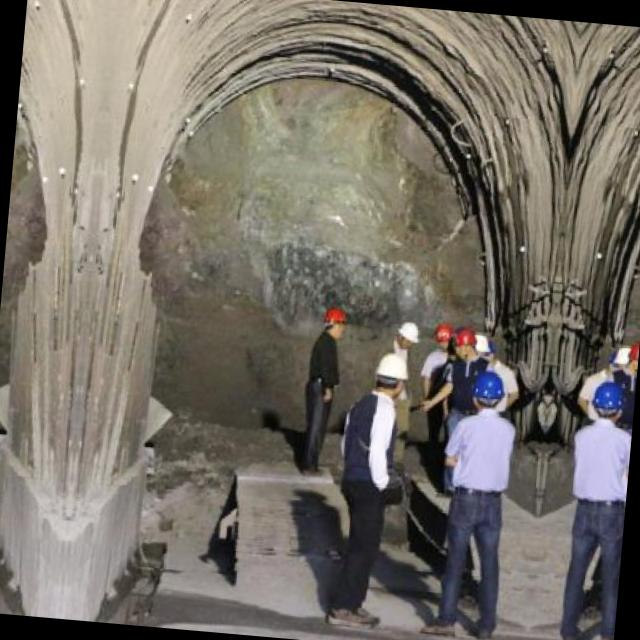helmet: (368, 349, 406, 398), (586, 377, 624, 424), (471, 367, 508, 414), (390, 316, 421, 351), (320, 300, 348, 338), (428, 318, 454, 352), (452, 325, 475, 362), (628, 340, 636, 377)
